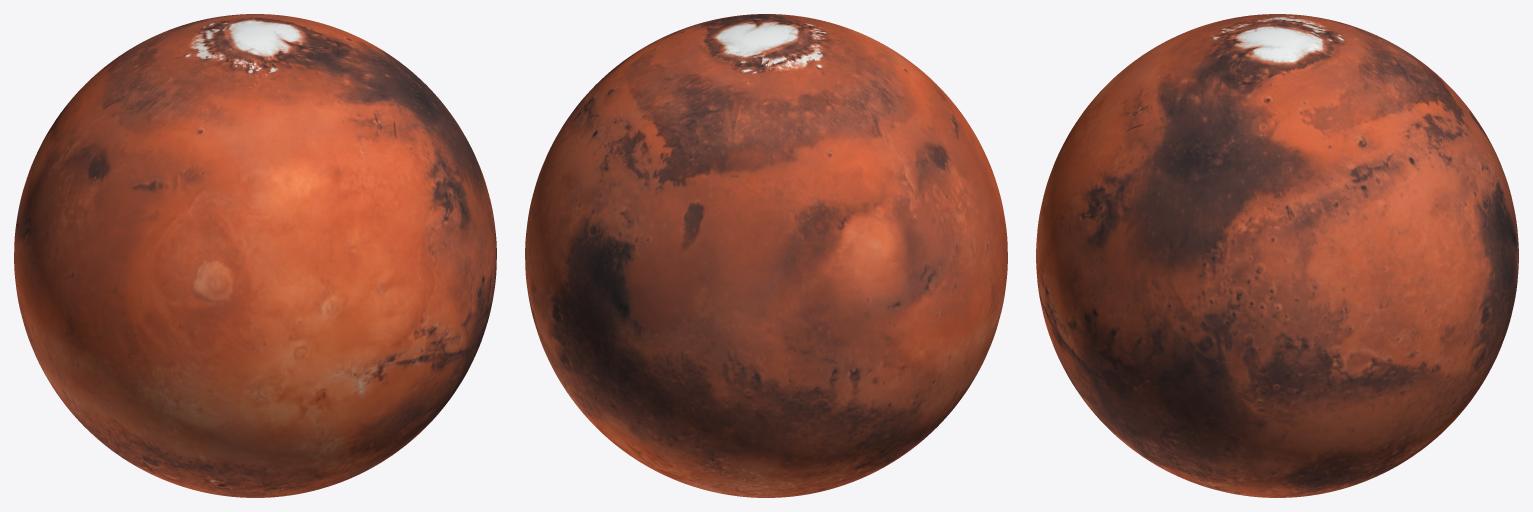
File: mars.glb
3 views of the same model, side by side, from view 1: azimuth 30°, elevation 25°; view 2: azimuth 150°, elevation 25°; view 3: azimuth 270°, elevation 25° (orthographic).
Visible parts, largest first — view 1: Mars_Sphere.004; view 2: Mars_Sphere.004; view 3: Mars_Sphere.004.
Boxes of the visible parts, x1=… form: Mars_Sphere.004: x1=14, y1=14, x2=496, y2=497; Mars_Sphere.004: x1=525, y1=14, x2=1007, y2=497; Mars_Sphere.004: x1=1036, y1=14, x2=1518, y2=497.
Size of the model in its own units: 1.25 by 1.25 by 1.25.
1 material, 1 textured.
